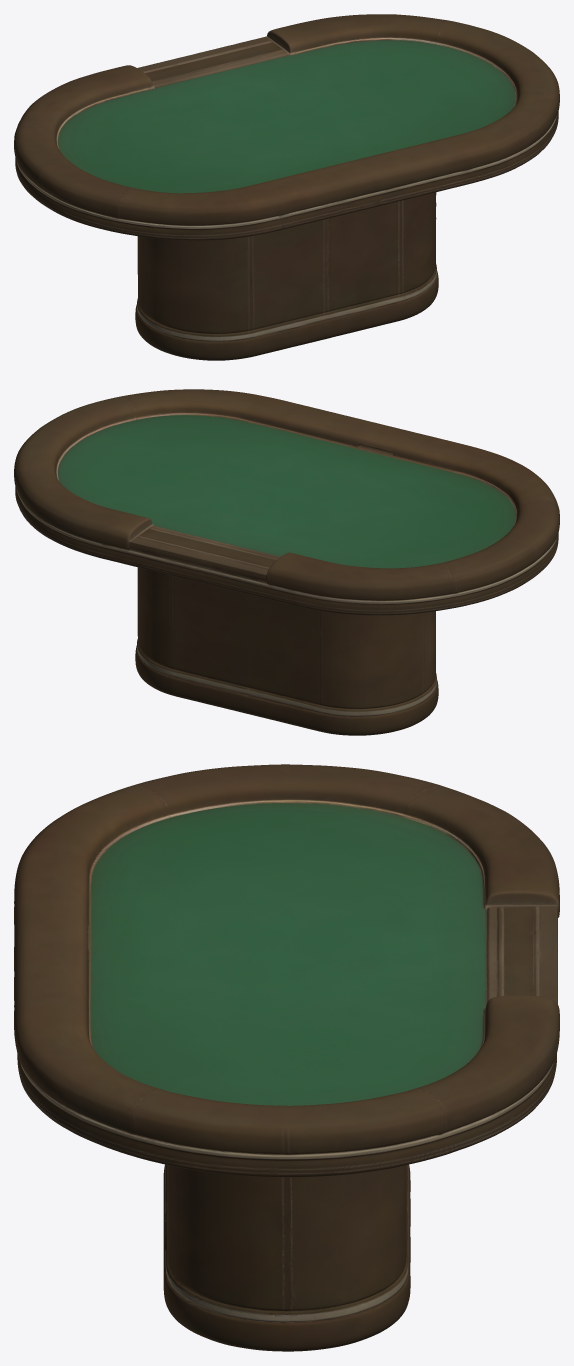
File: table-source.glb
3 views of the same model, one above another, from view 1: azimuth 30°, elevation 25°; view 2: azimuth 150°, elevation 25°; view 3: azimuth 270°, elevation 25° (orthographic). The views are drawn at different scales.
Parts seen in each view (by area): view 1: tripo_node_e1aad945-790a-4445-aa98-43448119566a; view 2: tripo_node_e1aad945-790a-4445-aa98-43448119566a; view 3: tripo_node_e1aad945-790a-4445-aa98-43448119566a.
Part boxes in pixels (x1,y1,x2,y2): tripo_node_e1aad945-790a-4445-aa98-43448119566a: (14, 14, 559, 360); tripo_node_e1aad945-790a-4445-aa98-43448119566a: (14, 389, 559, 735); tripo_node_e1aad945-790a-4445-aa98-43448119566a: (14, 764, 559, 1351).
Bounding box in the file's own units: 1 × 0.39 × 0.6245.
1 material, 1 textured.
